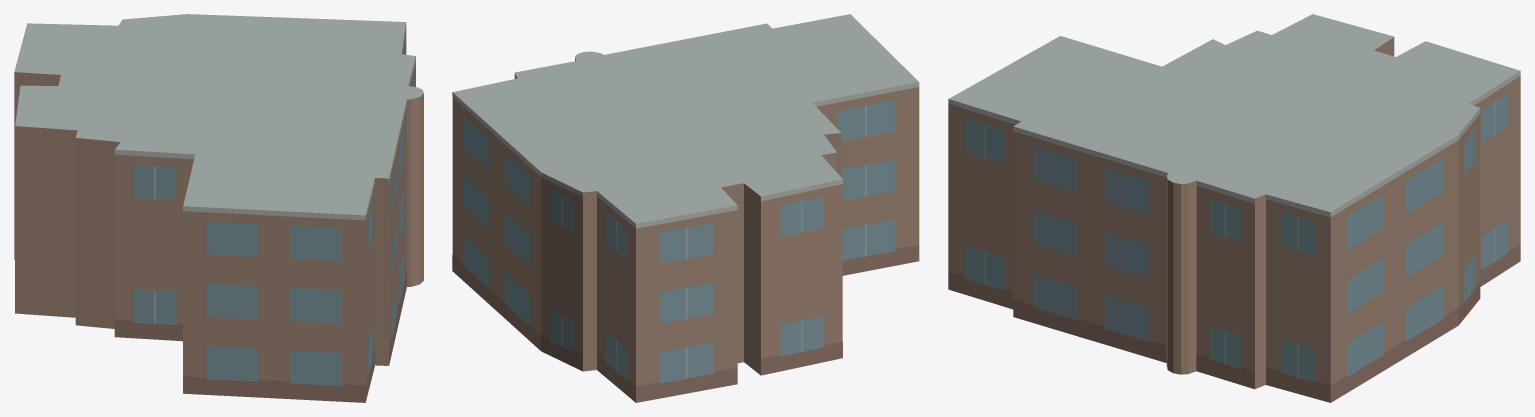
File: survey-upis-32467886.glb
The picture shows the model from 3 angles, left to right: view 1: azimuth 30°, elevation 25°; view 2: azimuth 150°, elevation 25°; view 3: azimuth 270°, elevation 25°; orthographic projection. The views are drawn at different scales.
Visible parts, largest first — view 1: survey-upis-32467886.tmp; view 2: survey-upis-32467886.tmp; view 3: survey-upis-32467886.tmp.
Boxes of the visible parts, <box> form: survey-upis-32467886.tmp: <box>14,14,423,402</box>; survey-upis-32467886.tmp: <box>452,14,919,402</box>; survey-upis-32467886.tmp: <box>948,14,1520,402</box>.
Size of the model in its own units: 20.43 by 9.15 by 24.9.
